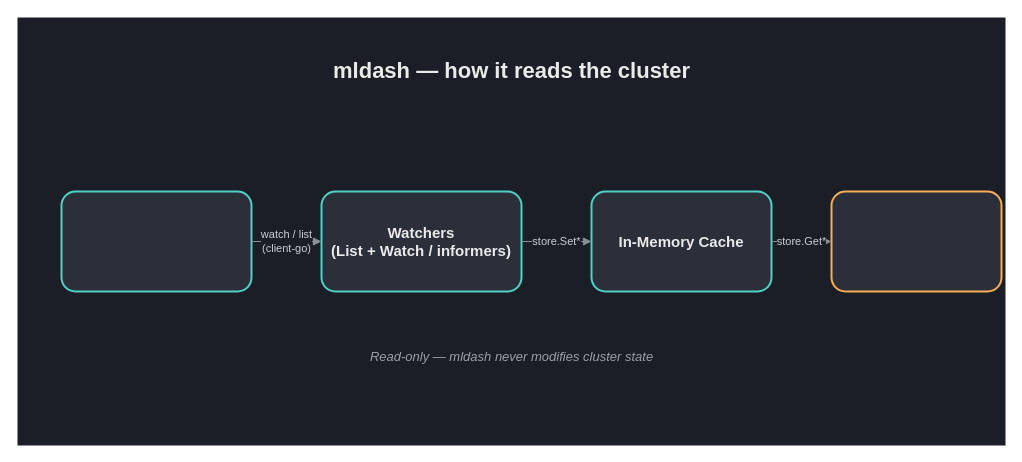
Image size: 1022x462. Some labels were removed from this diagram. Here are the shapes that lost their labels. From the top down, the box of each, then its label:
(60, 190, 252, 292): Kubernetes Cluster (nodes · pods · CRDs)
(830, 190, 1002, 292): REST API + Web Dashboard
